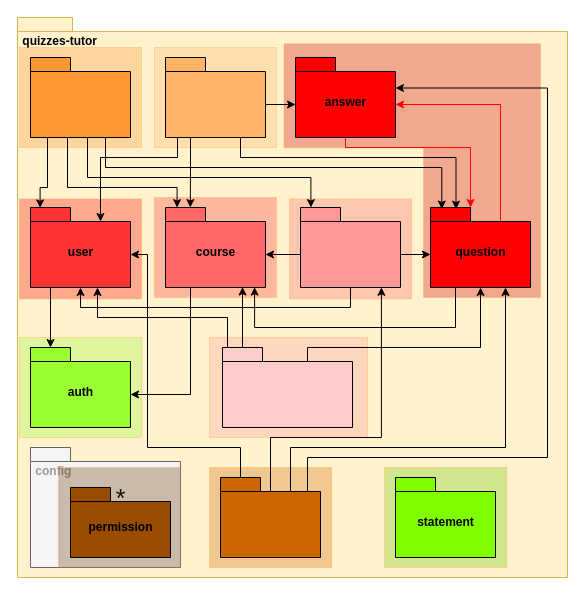
The diagram is 585 pixels wide and 595 high, and some of its shapes have lost their labels. The shapes that lost their labels are listed below. From the top down, each one's centre as x and y in pixels, then its label:
(x=80, y=97): tournament
(x=215, y=97): discussion
(x=350, y=247): quiz
(x=287, y=387): questionsubmission
(x=270, y=517): statistics
